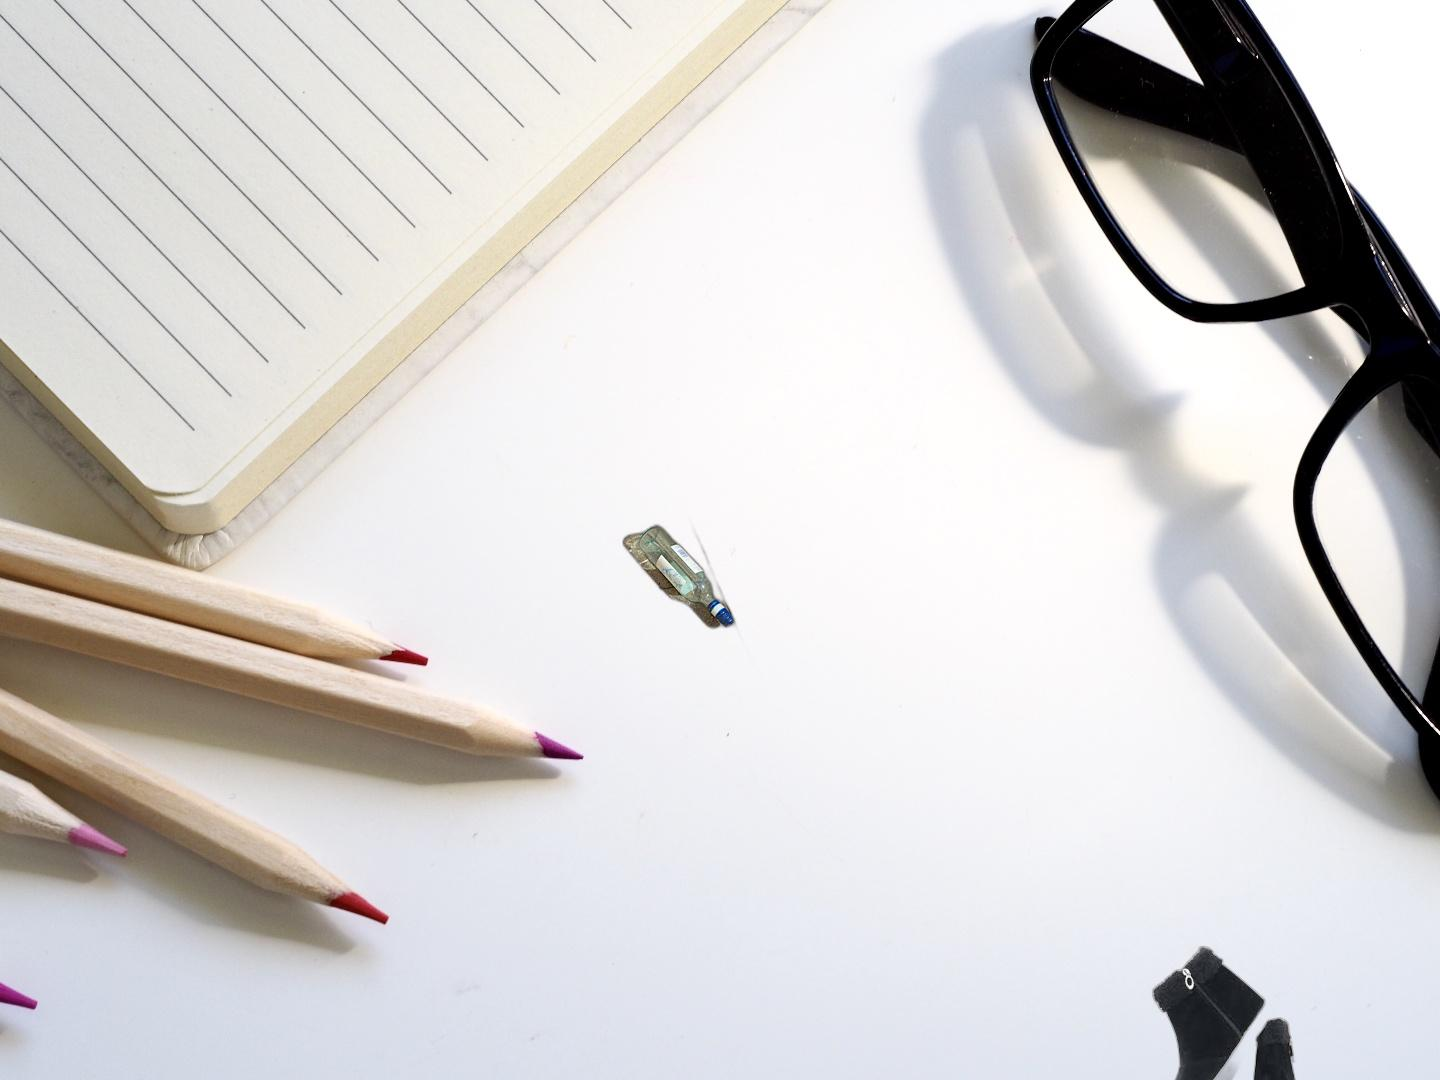glass: (618, 505, 756, 670)
shoes: (1149, 943, 1325, 1080)
